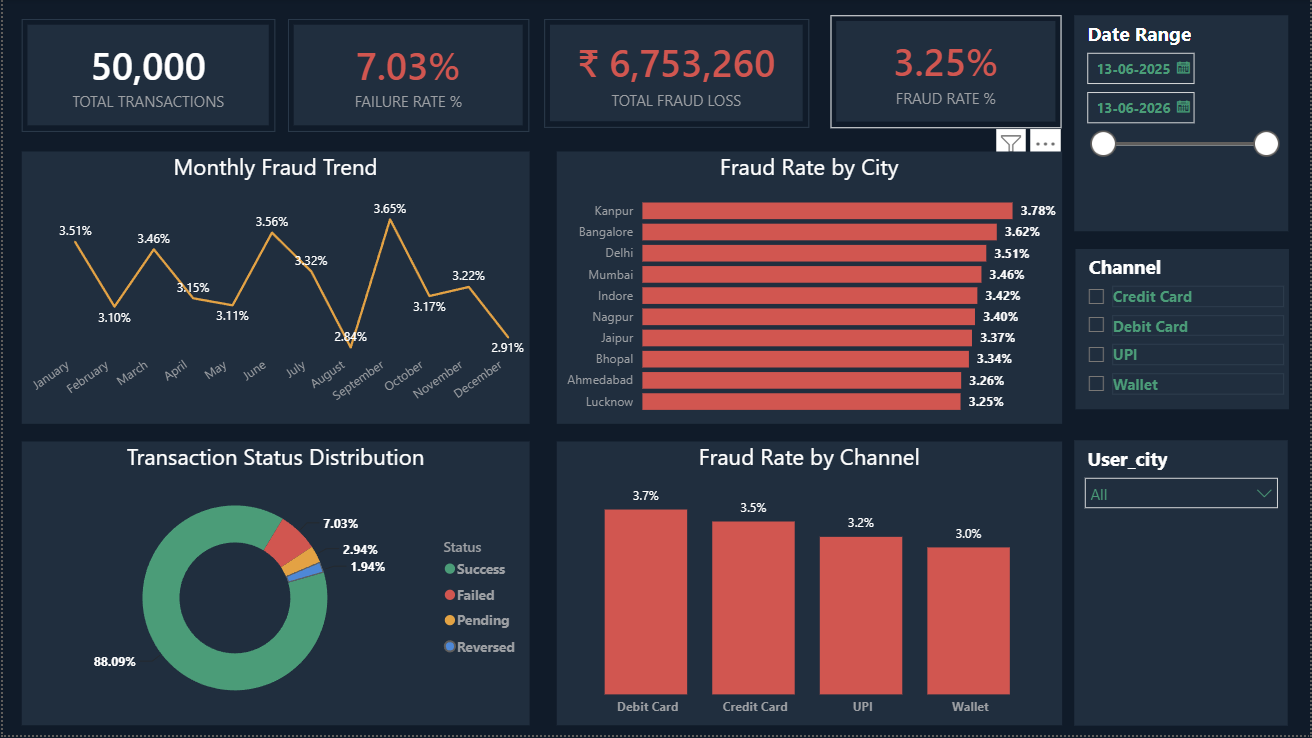

What the dashboard file says about the page in this screenshot:
{"tool":"powerbi","page":{"name":"EXECUTIVE OVERVIEW","canvas":[1280,720],"ordinal":0},"visuals":[{"type":"cardVisual","fields":{"Data":["Mesures.Fraud Rate %"]},"box":[809.5,15.9,226.2,110.1],"z":0},{"type":"cardVisual","fields":{"Data":["Mesures.Failure Rate %"]},"box":[278.8,19.6,236,110.1],"z":1000},{"type":"lineChart","title":"Monthly Fraud Trend","fields":{"Y":["Mesures.Fraud Rate %"],"Category":["Transactions.Month Name"]},"box":[18.3,149.2,496.5,266.6],"z":2000},{"type":"clusteredBarChart","title":"Fraud Rate by City","fields":{"Category":["Users.user_city"],"Y":["Mesures.Fraud Rate %"]},"box":[541.7,149.2,494,266.6],"z":3000},{"type":"donutChart","title":"Transaction Status Distribution","fields":{"Category":["Transactions.status"],"Y":["Count(Transactions.txn_id)"]},"box":[18.3,432.9,496.5,277.6],"z":4000},{"type":"clusteredColumnChart","title":"Fraud Rate by Channel","fields":{"Category":["Transactions.channel"],"Y":["Mesures.Fraud Rate %"]},"box":[541.7,432.9,494,277.6],"z":5000},{"type":"slicer","fields":{"Values":["Transactions.channel"]},"box":[1049.2,244.6,209.1,156.5],"z":6000},{"type":"slicer","fields":{"Values":["Users.user_city"]},"box":[1048,431.7,209.1,278.8],"z":7000},{"type":"slicer","fields":{"Values":["Transactions.timestamp"]},"box":[1048,15.9,209.1,210.3],"z":8000},{"type":"cardVisual","fields":{"Data":["Mesures.Total Fraud Loss Display"]},"box":[529.5,19.6,259.2,106.4],"z":9000},{"type":"cardVisual","fields":{"Data":["Mesures.Total Transactions Display"]},"box":[18.3,19.6,248.2,110.1],"z":10000}]}

Visuals, with their boxes in screenshot pixels (x1, y1, x2, y2), scaled from the page's 1280x720 canvas onto the 1312x738 screenshot:
cardVisual - Mesures.Fraud Rate %: region(830, 16, 1062, 129)
cardVisual - Mesures.Failure Rate %: region(286, 20, 528, 133)
"Monthly Fraud Trend" lineChart: region(19, 153, 528, 426)
"Fraud Rate by City" clusteredBarChart: region(555, 153, 1062, 426)
"Transaction Status Distribution" donutChart: region(19, 444, 528, 728)
"Fraud Rate by Channel" clusteredColumnChart: region(555, 444, 1062, 728)
slicer - Transactions.channel: region(1075, 251, 1290, 411)
slicer - Users.user_city: region(1074, 442, 1289, 728)
slicer - Transactions.timestamp: region(1074, 16, 1289, 232)
cardVisual - Mesures.Total Fraud Loss Display: region(543, 20, 808, 129)
cardVisual - Mesures.Total Transactions Display: region(19, 20, 273, 133)
